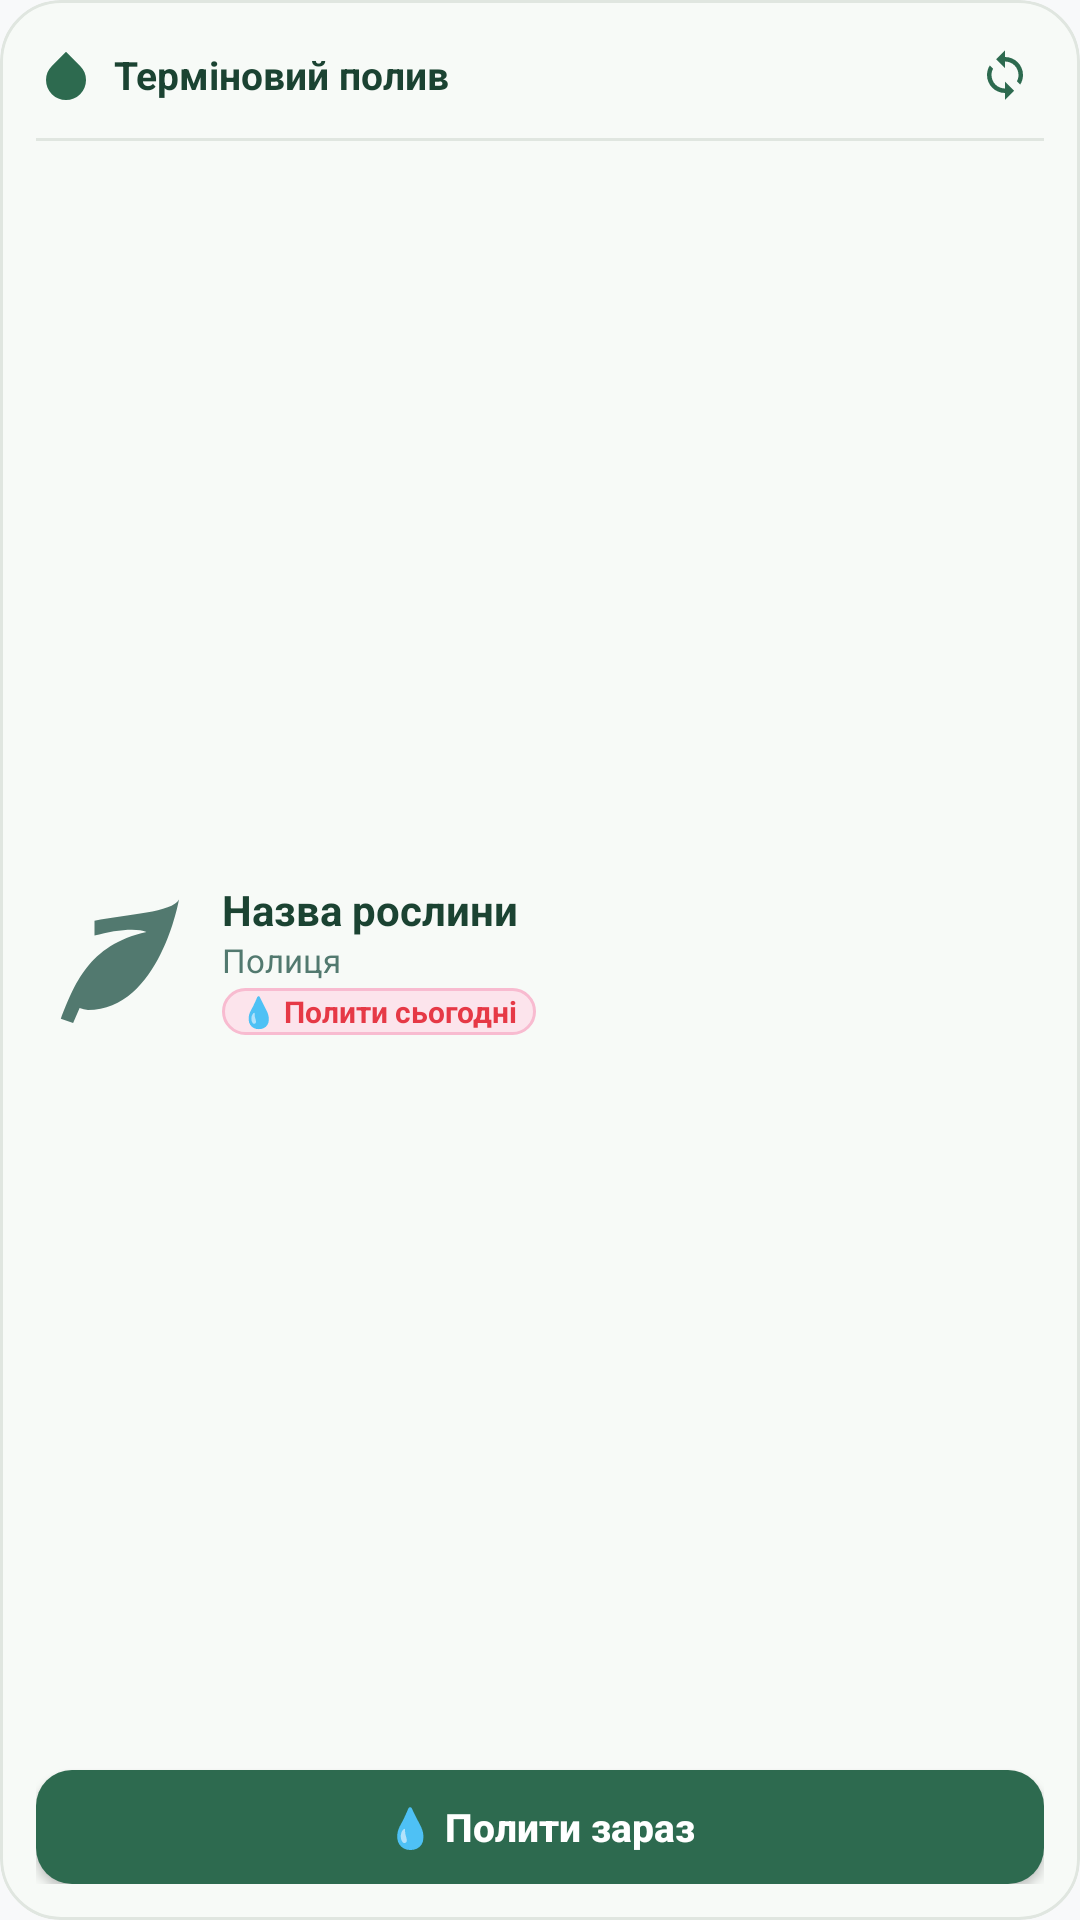

Where icons sit on this 1080px×1920px app screen, as region(x1, y1, x2, y2):
water: region(46, 52, 86, 100)
Оновити: region(987, 50, 1023, 100)
